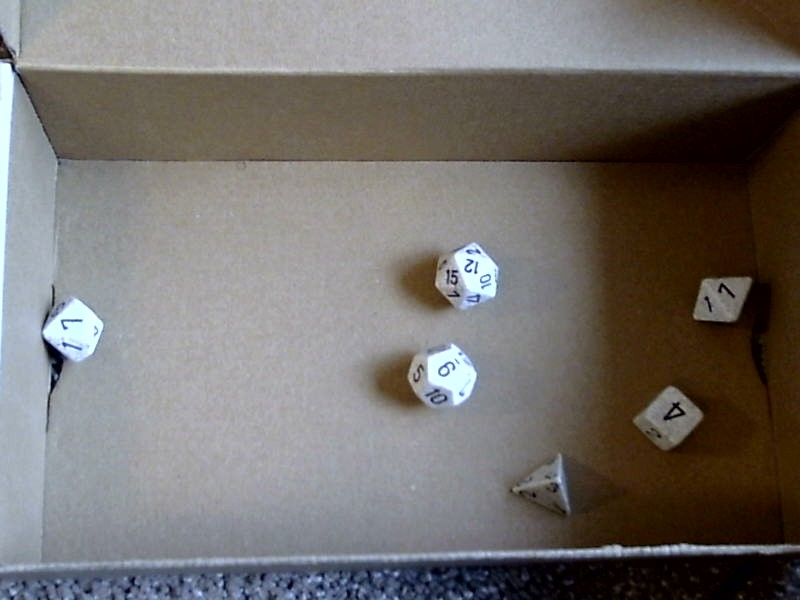d10 7: (36, 287, 116, 373)
d12 9: (402, 339, 483, 414)
d20 12: (426, 227, 511, 317)
d4 3: (506, 447, 581, 530)
d6 4: (630, 381, 705, 460)
d8 7: (686, 266, 757, 331)
